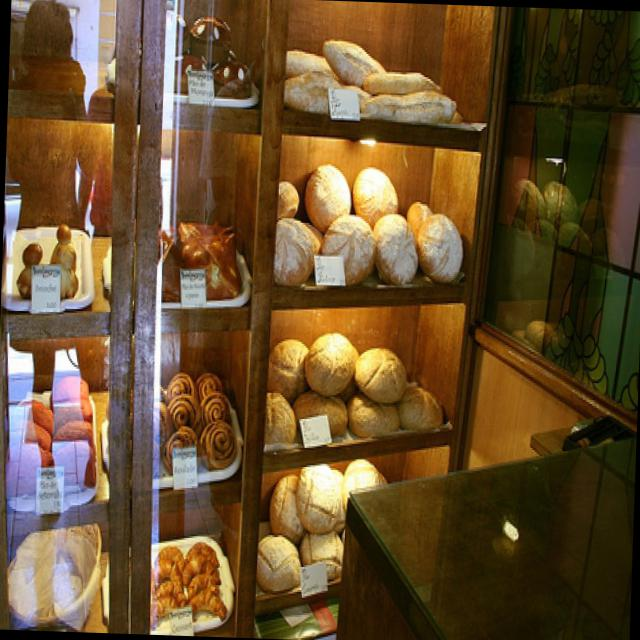French bread: (283, 38, 459, 120)
bread: (155, 370, 231, 474)
bread roll: (149, 540, 223, 617), (198, 417, 234, 469)
cake occluded: (178, 229, 238, 299), (44, 221, 76, 296)
cakes: (173, 9, 251, 95)
counter bottom: (332, 434, 635, 640)
loaf occluded: (317, 211, 371, 282), (370, 210, 417, 281), (415, 210, 461, 281), (304, 329, 354, 392), (294, 462, 339, 531), (301, 160, 349, 223), (354, 344, 405, 402), (255, 531, 300, 588), (396, 382, 442, 428)
loafs: (262, 337, 397, 441)
wall clock: (452, 6, 640, 468)
